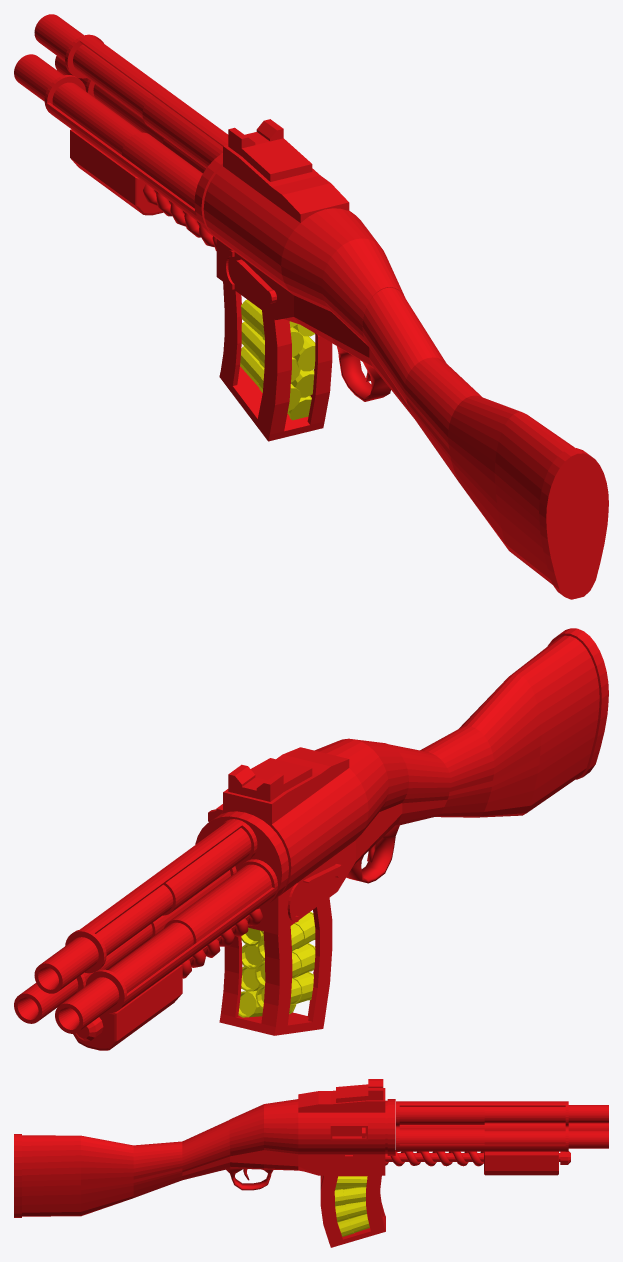
Rendered from escopeta_Baja.fbx.
3 views of the same model, one above another, from view 1: azimuth 30°, elevation 25°; view 2: azimuth 150°, elevation 25°; view 3: azimuth 270°, elevation 25° (orthographic). The views are drawn at different scales.
Visible parts, largest first — view 1: Baja_Arma; view 2: Baja_Arma; view 3: Baja_Arma.
Boxes of the visible parts, x1,y1,x2,y2 form: Baja_Arma: [14, 14, 608, 599]; Baja_Arma: [14, 628, 608, 1050]; Baja_Arma: [14, 1079, 608, 1247].
Size of the model in its own units: 366 by 961 by 3331.
